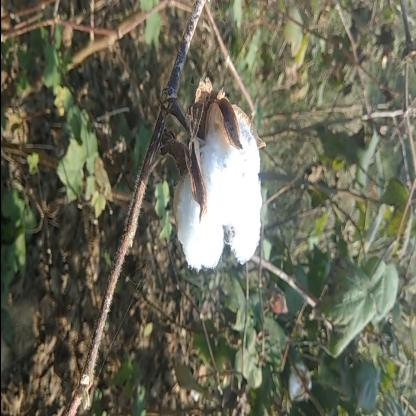cotton_ready: (140, 89, 278, 265)
